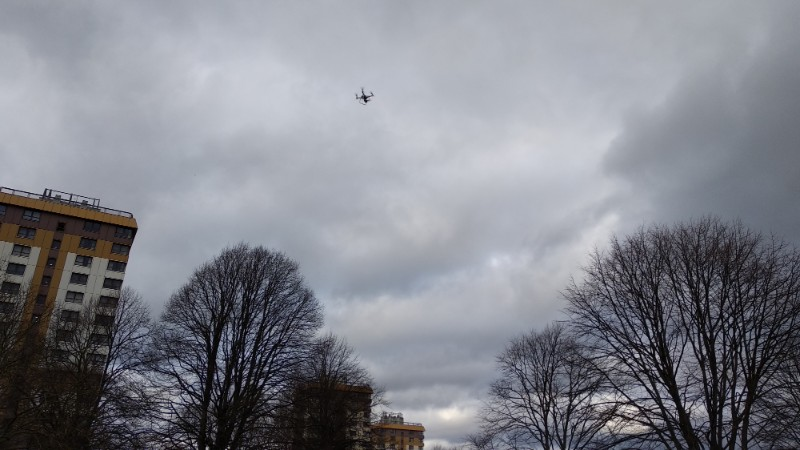drone: (355, 87, 376, 105)
